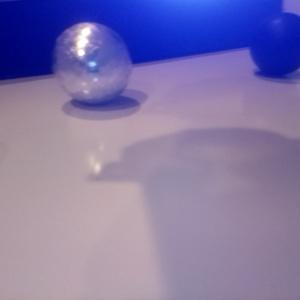alive_ball: (53, 21, 133, 105)
dead_ball: (250, 13, 300, 74)
